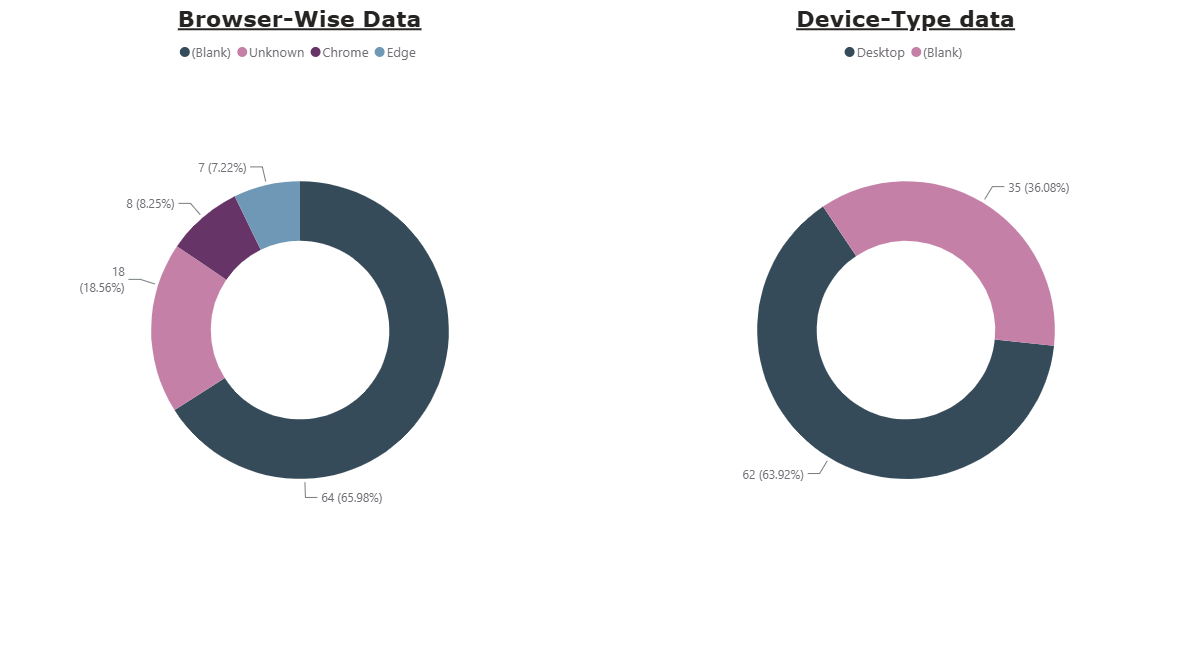

This screenshot's page, from the dashboard's own definition file:
{"tool":"powerbi","page":{"name":"Page 3","canvas":[1280,720],"ordinal":2},"visuals":[{"type":"donutChart","title":"Browser-Wise Data","fields":{"Category":["data (2).browser"],"Y":["data (2).Total QR scans"]},"box":[88.6,17.1,500,600],"z":0},{"type":"donutChart","title":"Device-Type data","fields":{"Category":["data (2).deviceType"],"Y":["data (2).Total QR scans"]},"box":[700,17.1,500,600],"z":1000}]}

Visuals, with their boxes on the page's 1280x720 design canvas (x1, y1, x2, y2). These are canvas units, not pixel positions in the 1204x649 screenshot, which may show the page scaled, cropped or inside an application window:
"Browser-Wise Data" donutChart: [89, 17, 589, 617]
"Device-Type data" donutChart: [700, 17, 1200, 617]
